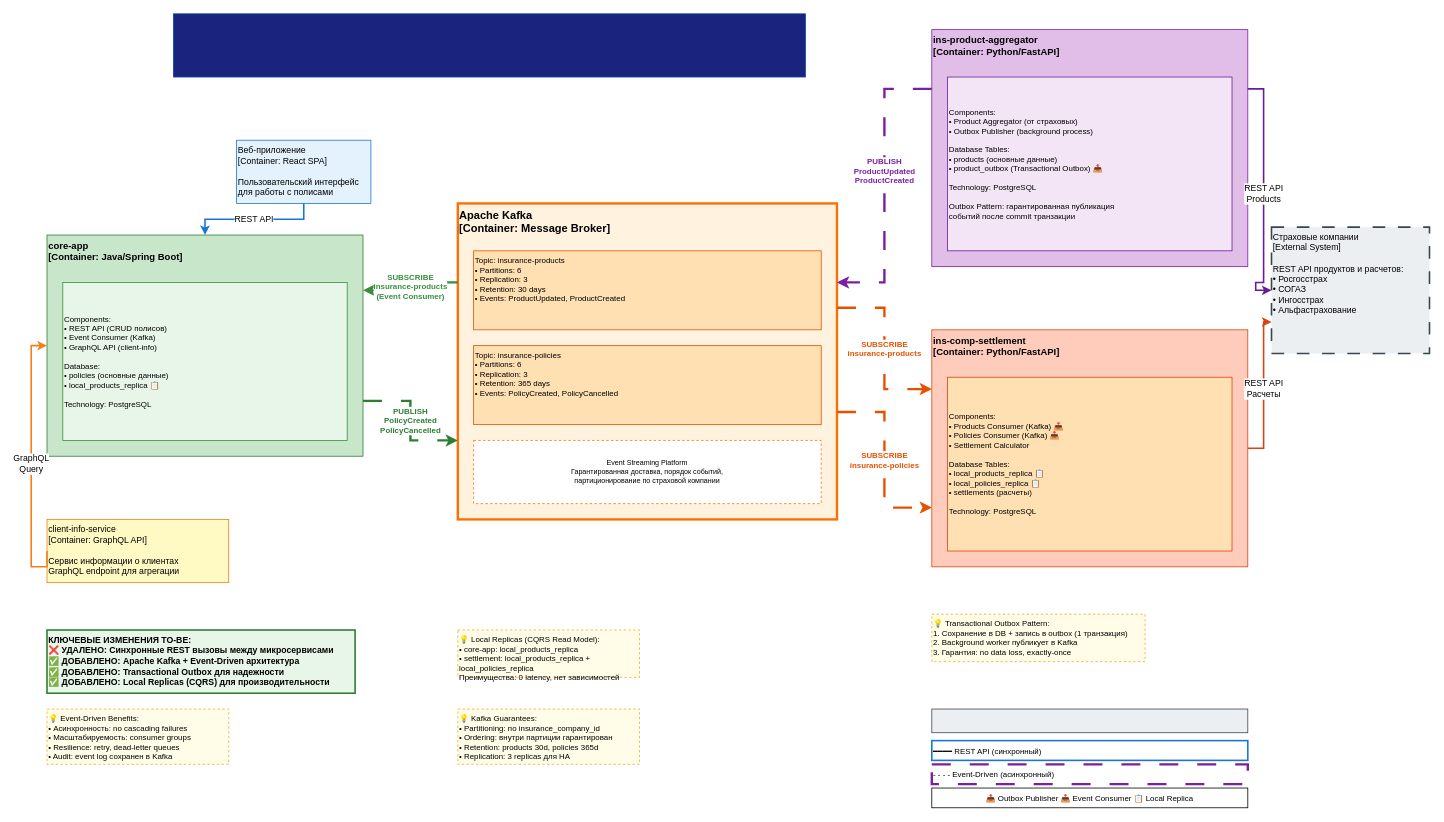
Image size: 1444x822. Some labels were removed from this diagram. Each missing label, with the centre of its shape:
InsureTech - C4 Container Diagram TO-BE Event-Driven Architecture с Apache Kafka: point 489,45
ЛЕГЕНДА: point 1089,720
